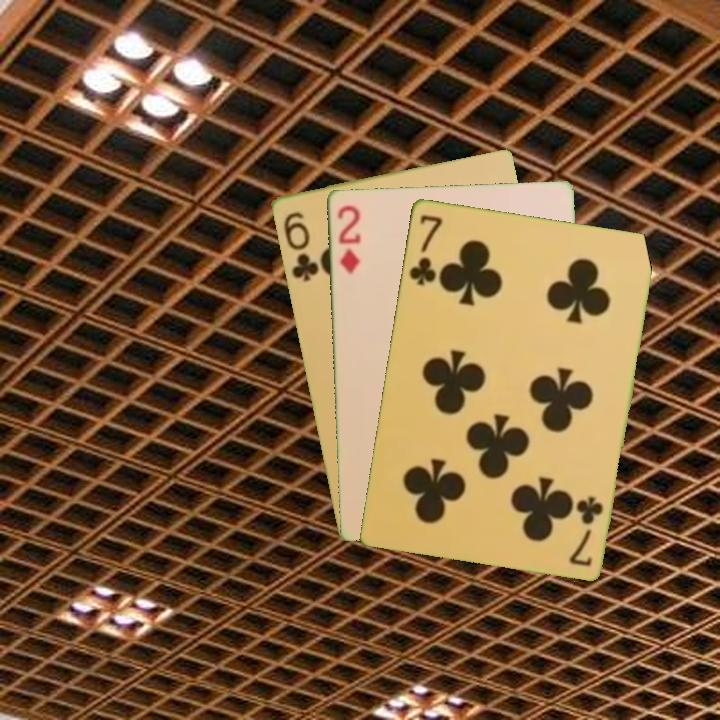2d: (334, 201, 363, 276)
6c: (279, 208, 321, 285)
7c: (405, 210, 445, 288), (567, 492, 606, 569)
